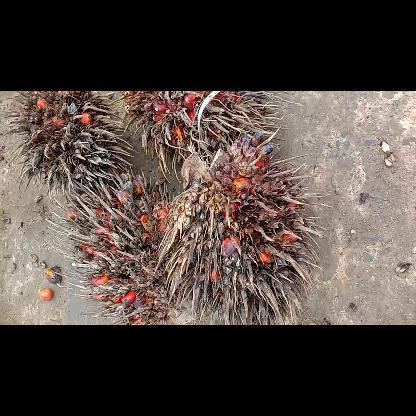Terlalu masak: (155, 128, 339, 324), (43, 162, 205, 324), (107, 90, 296, 182), (0, 91, 139, 206)
